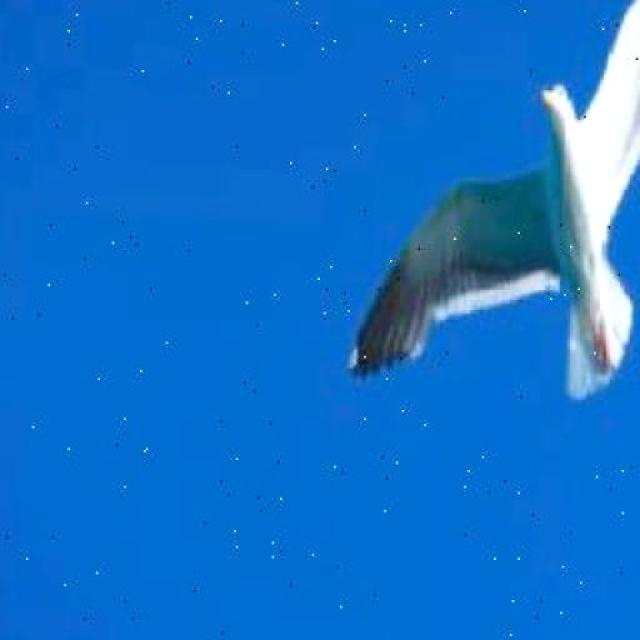airplane: (344, 0, 640, 404)
